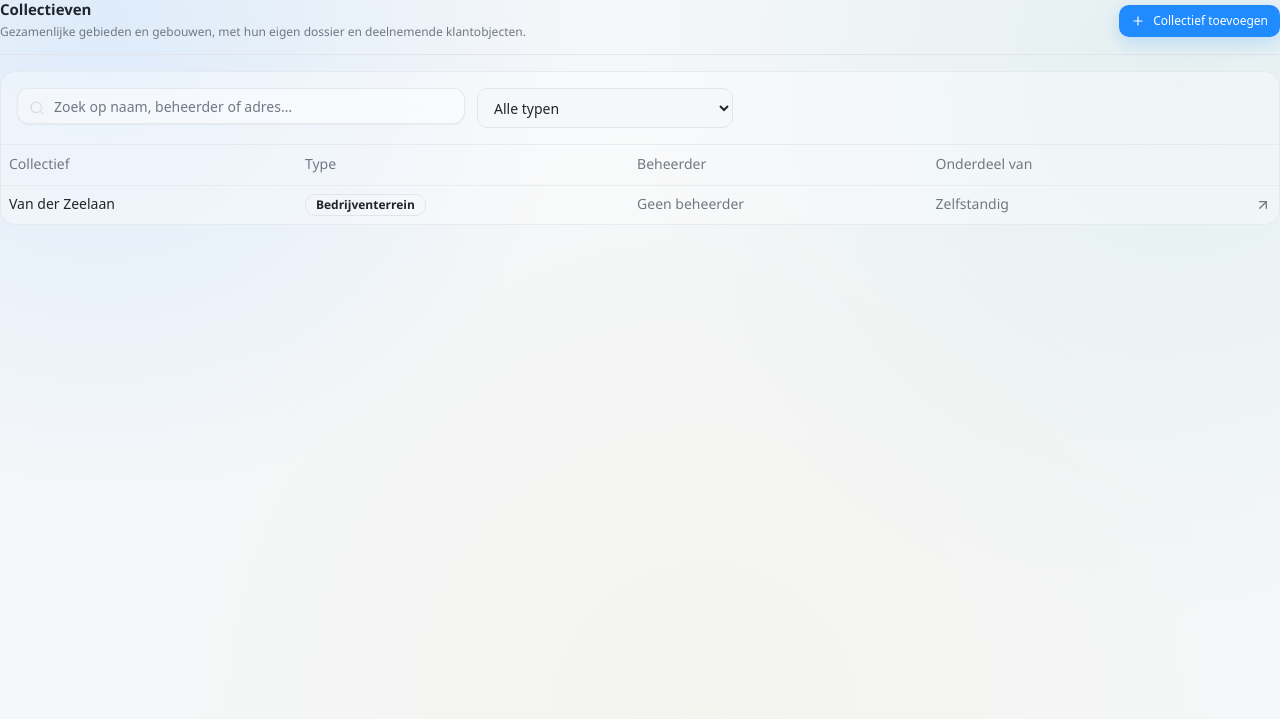
Scenario: collectiefkaart › opent pas na een rijselectie het dossier en keert terug naar de collectievenlijst
Click the row "Van der Zeelaan" at (640, 204), box [1, 185, 1279, 224]
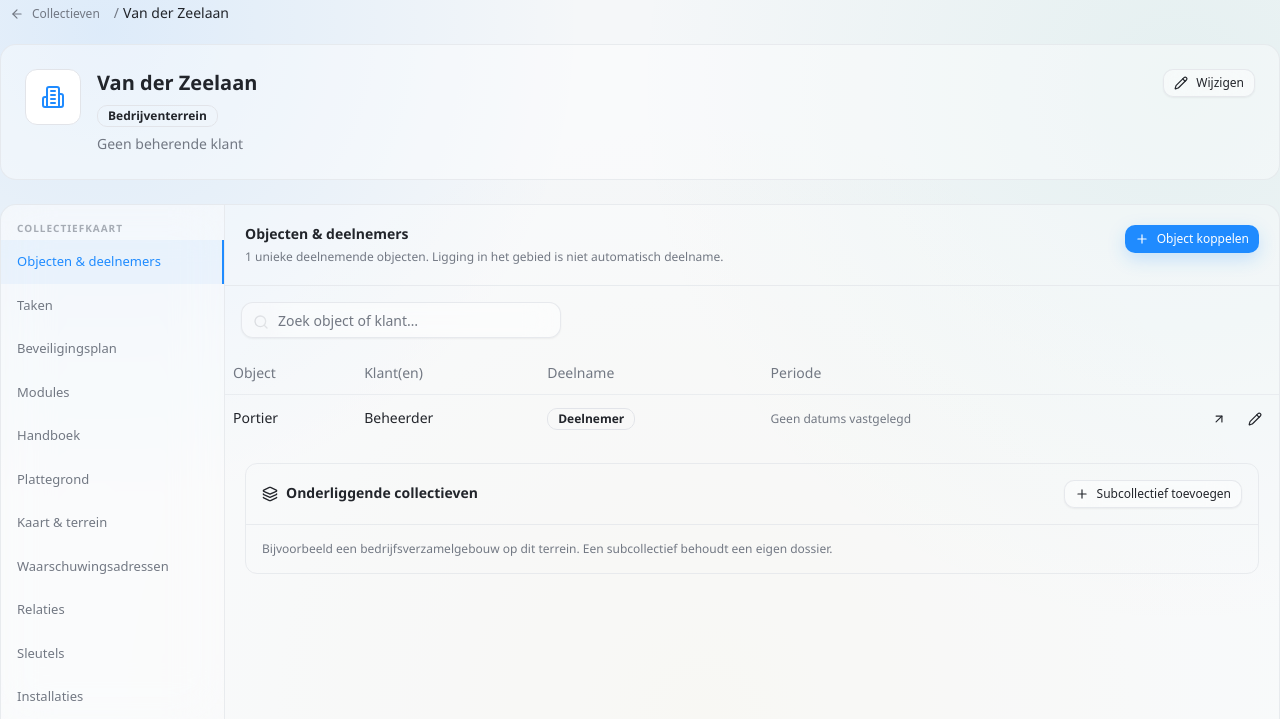
Expected: the tab "Objecten & deelnemers" is shown, [1, 240, 224, 284]
Click the button "Collectieven" at (55, 14), box [0, 0, 110, 28]
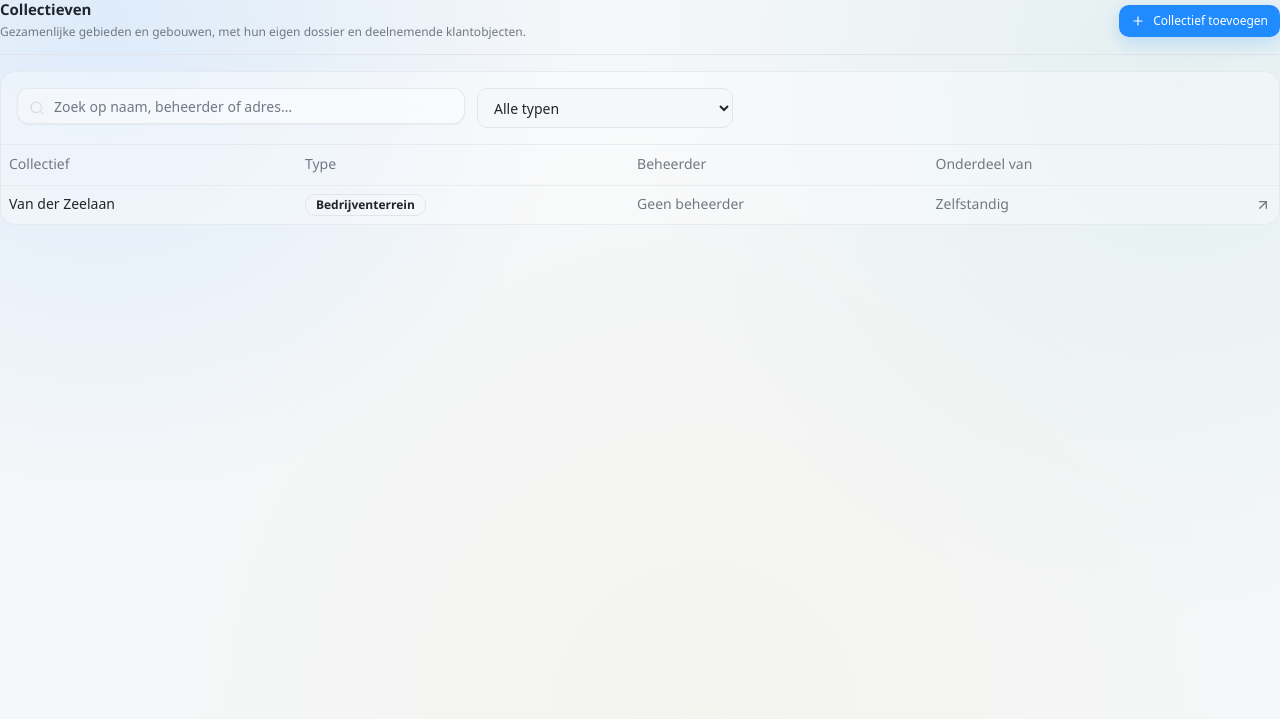
Expected: the button "Collectief toevoegen" is enabled, [1119, 5, 1279, 37]
Expected: the table named "Collectieven" is shown, [1, 145, 1279, 224]
Expected: the tab "Objecten & deelnemers" is gone
